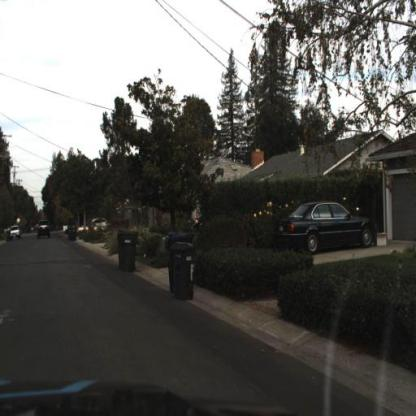car: (278, 201, 378, 255), (76, 220, 106, 245), (189, 203, 208, 239), (8, 221, 24, 243), (92, 213, 111, 231), (38, 219, 52, 240)
